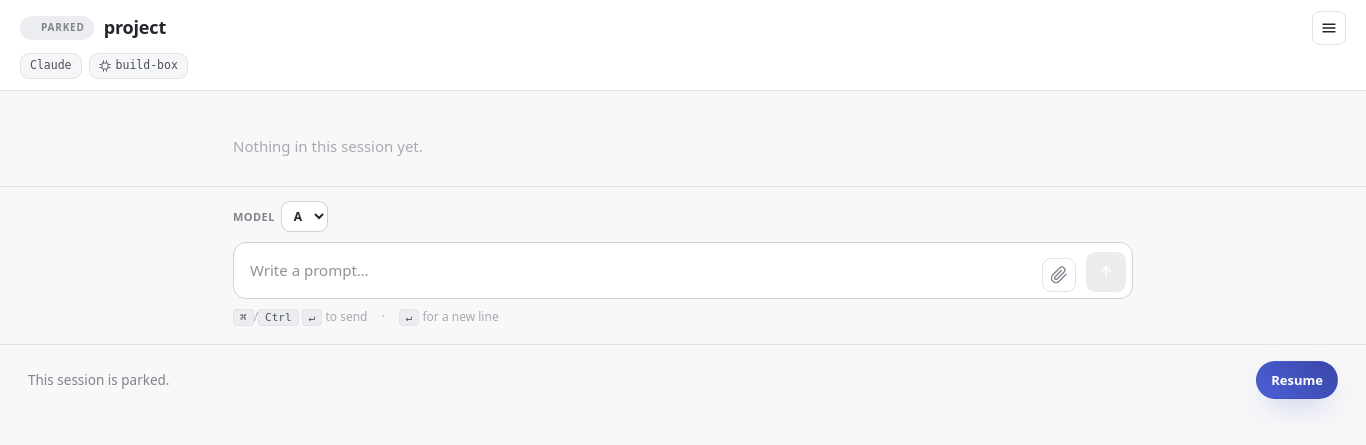
SessionView: a refused resume, in words › active (409) is put in words
Expected: the element named "Host" reads "build-box", top-left (116, 58), bottom-right (178, 72)
Step 1. Click the button "Resume" → point(1297, 380), box top-left (1256, 361), bottom-right (1338, 399)
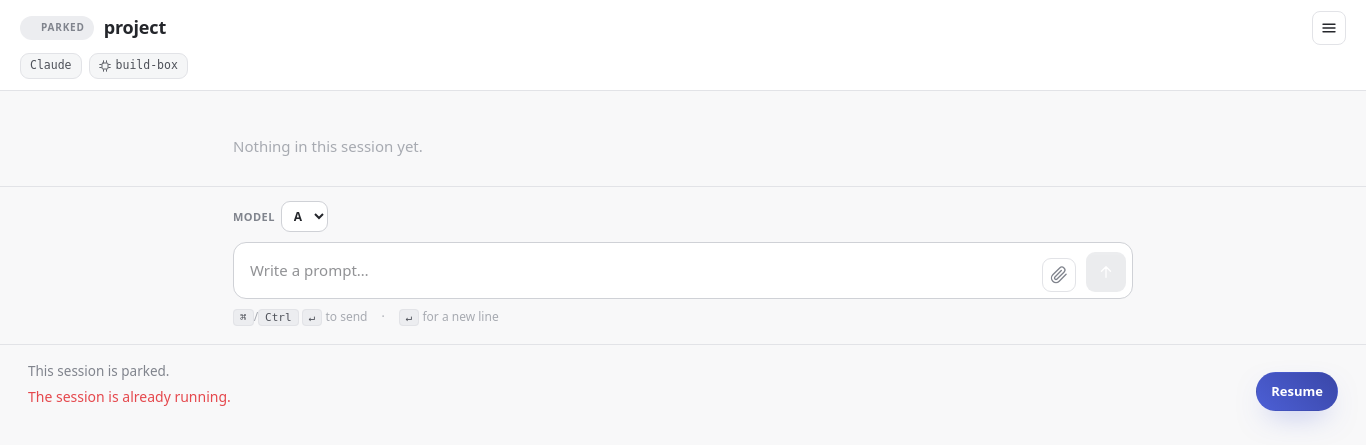
Expected: the button "Resume" is enabled, top-left (1256, 372), bottom-right (1338, 410)
Result: the text "The session is already running." is shown at top-left (28, 387), bottom-right (231, 406)
